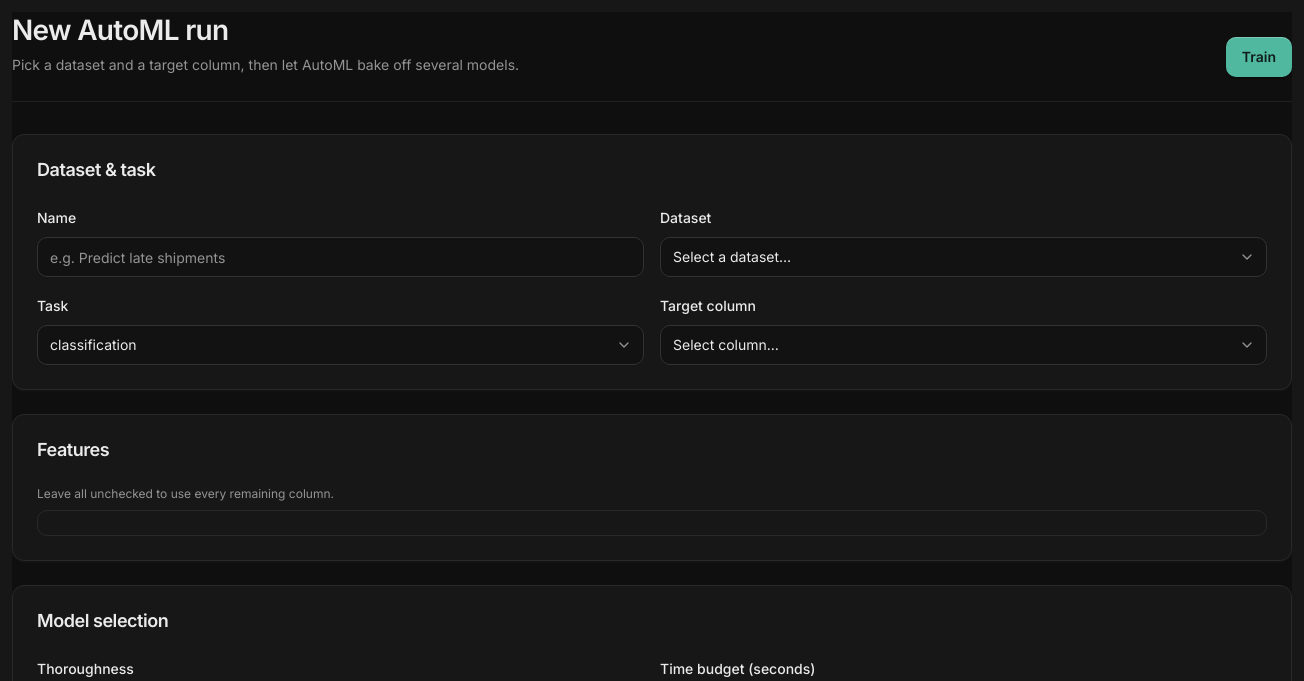
AutoMLRun new run form › forecasting needs a time column, then sends horizon and strategy
The image size is (1304, 681).
Select "Shipments (1,200 rows)" in the 1st dropdown at (964, 257), box x1=660 y1=237 x2=1267 y2=277
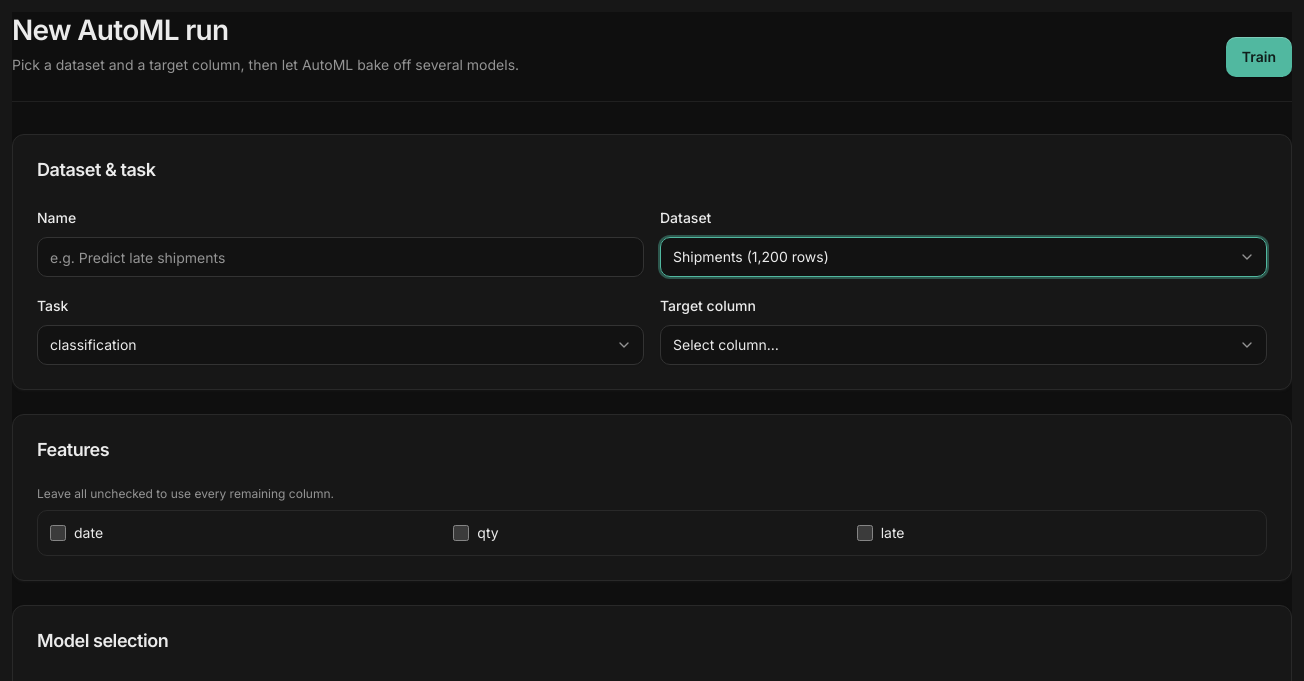
Select "forecasting" in the 2nd dropdown at (340, 345), box x1=37 y1=325 x2=644 y2=365
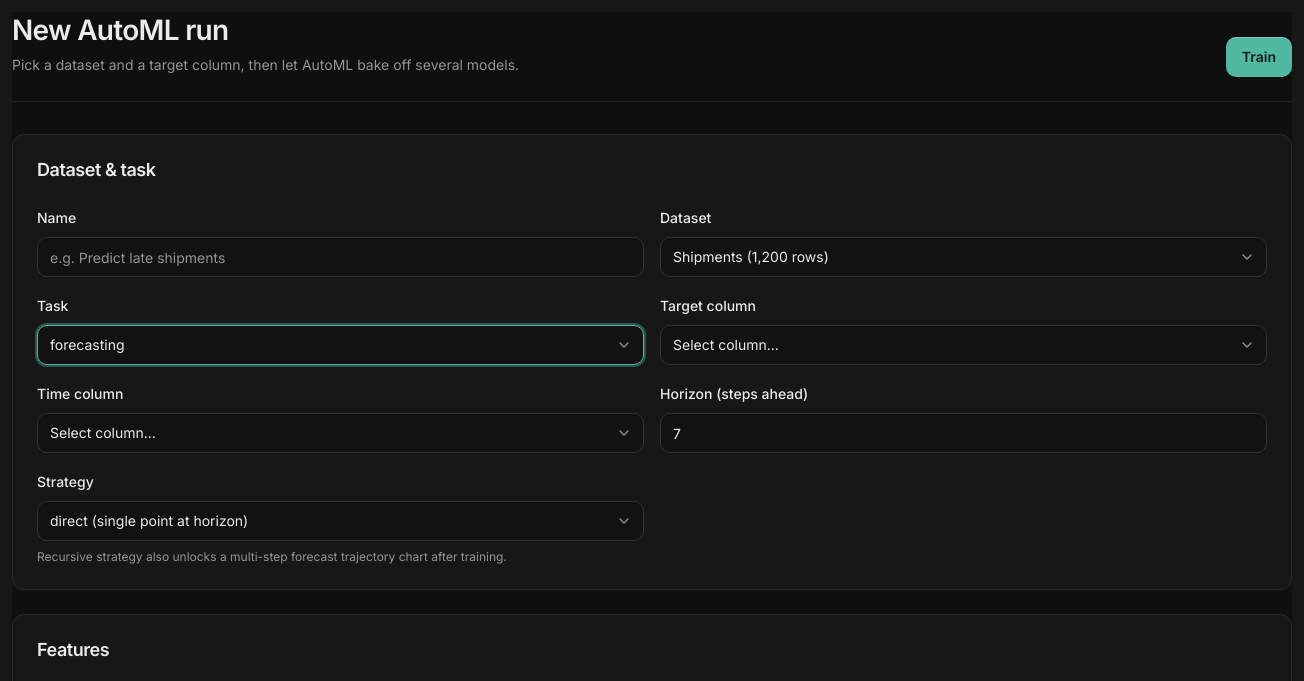
Select "qty" in the 3rd dropdown at (964, 345), box x1=660 y1=325 x2=1267 y2=365
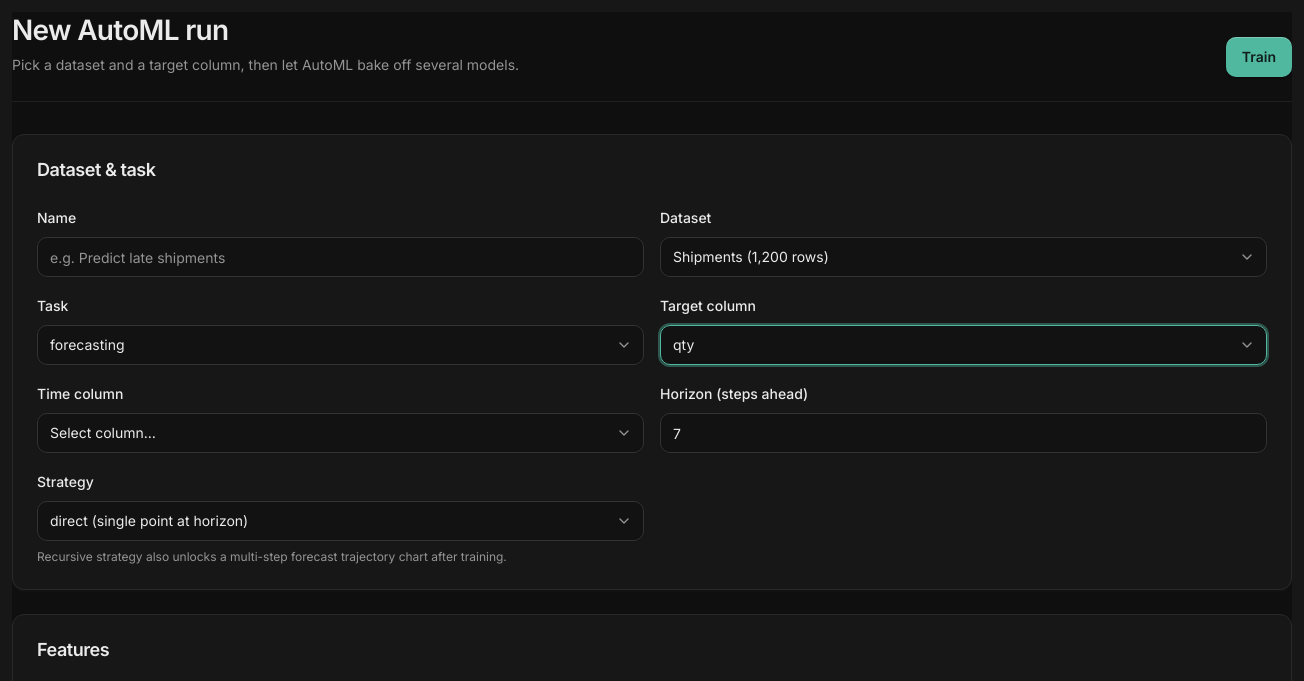
Click the button "Train" at (1259, 57), box x1=1226 y1=37 x2=1292 y2=77
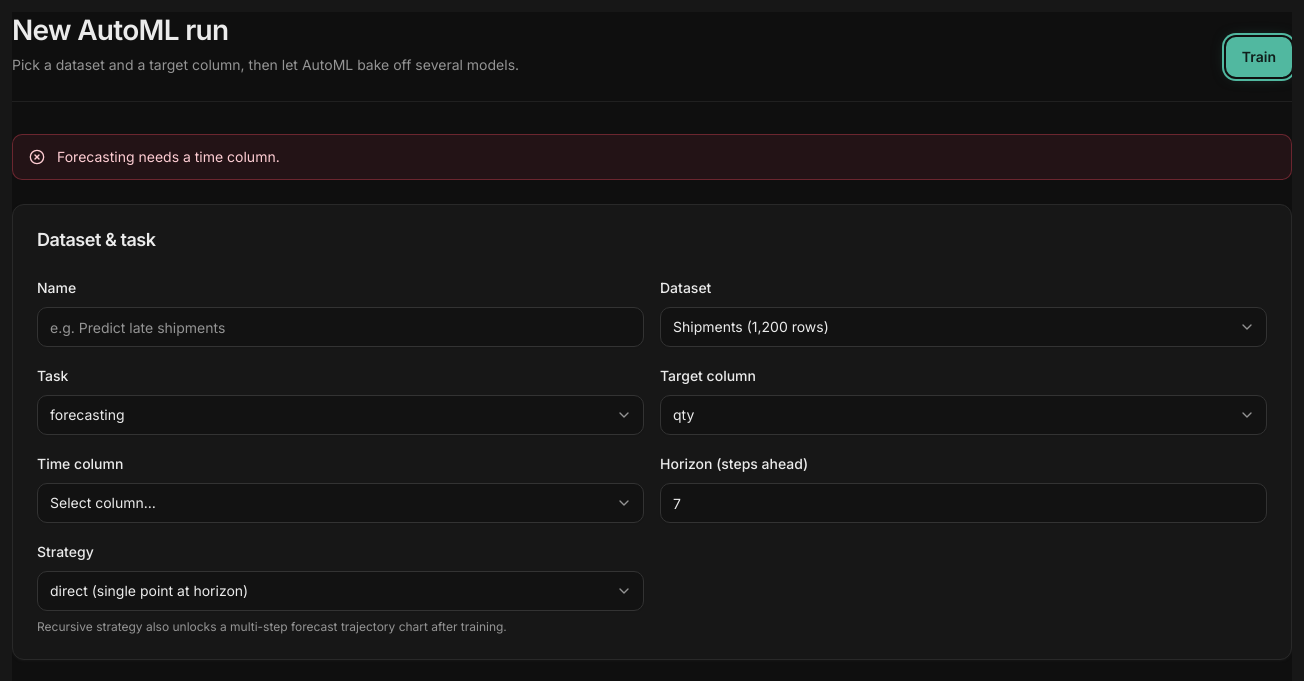
Result: the text "Forecasting needs a time column." is shown at x1=57 y1=147 x2=280 y2=167
Select "date" in the 4th dropdown at (340, 503), box x1=37 y1=483 x2=644 y2=523
Replace the text in the number field with "14" at (964, 503), box x1=660 y1=483 x2=1267 y2=523
Select "recursive (walk-forward trajectory)" in the 5th dropdown at (340, 591), box x1=37 y1=571 x2=644 y2=611
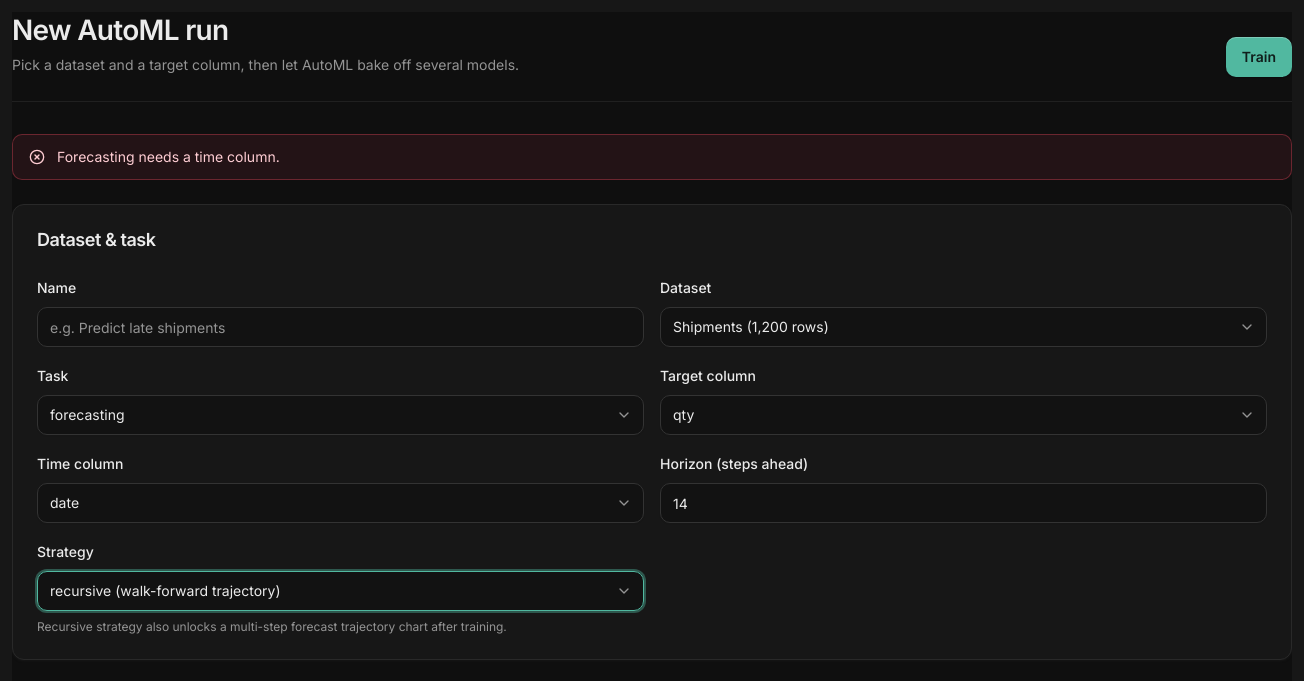
Click the button "Train" at (1259, 57), box x1=1226 y1=37 x2=1292 y2=77
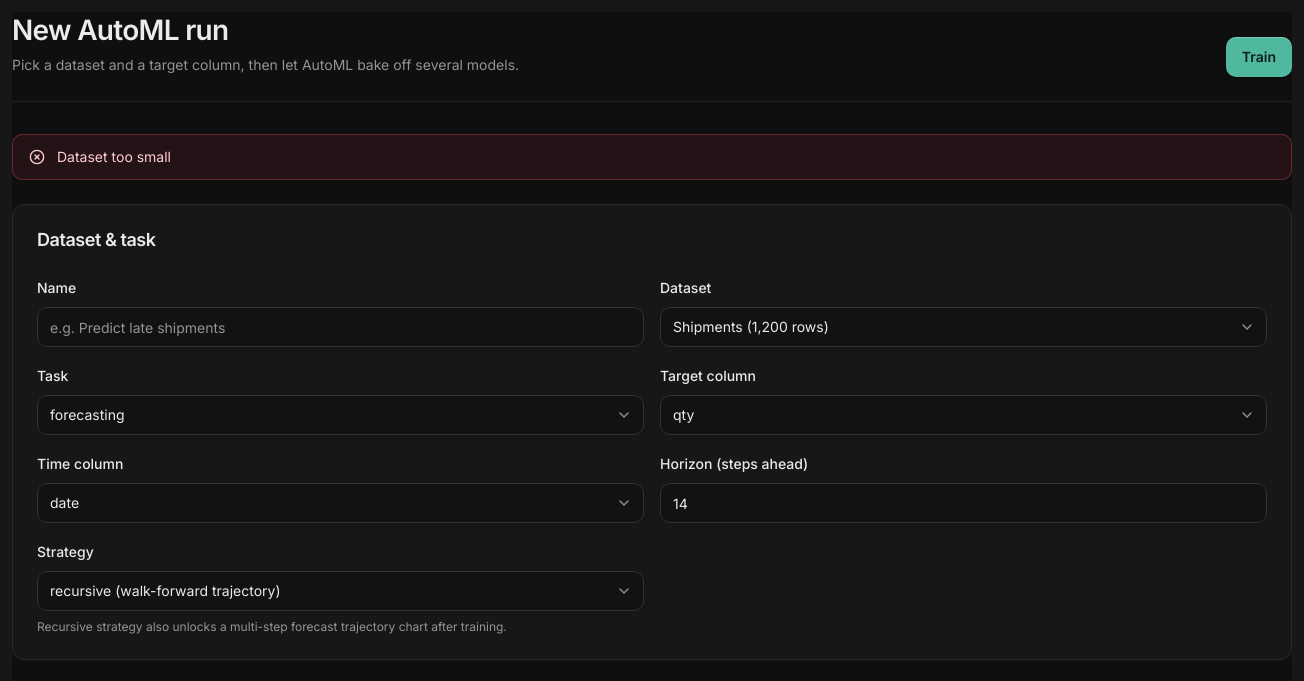
Result: the text "Dataset too small" is shown at x1=57 y1=147 x2=171 y2=167
